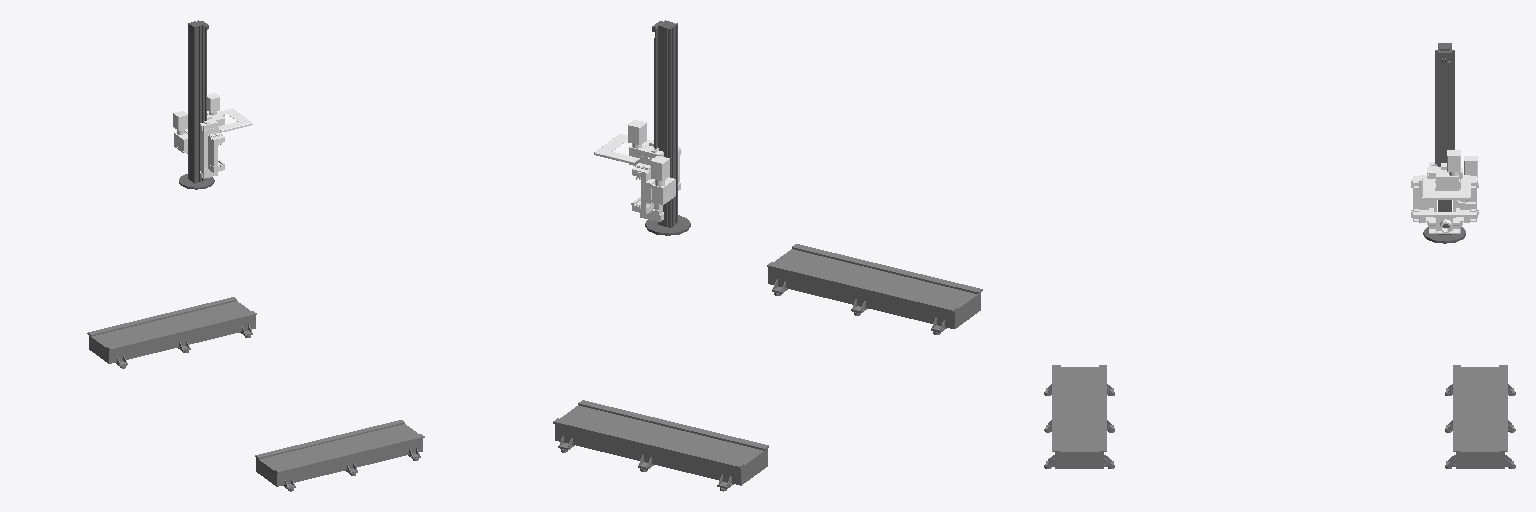
robot.urdf — gantry:
<?xml version="1.0"?>
<!-- =================================================================================== -->
<!-- |    This document was autogenerated by xacro from [local-path]/catkin_ws/src/ntnu_robotlab/gantry_support/urdf/gantry_robot.xacro | -->
<!-- |    EDITING THIS FILE BY HAND IS NOT RECOMMENDED                                 | -->
<!-- =================================================================================== -->
<!--Generates a urdf from the macro in gantry_macro.xacro -->
<robot xmlns:xacro="http://www.ros.org/wiki/xacro" name="gantry">
  <!-- created with Phobos 0.7 -->
  <link name="link_arm">
    <inertial>
      <origin rpy="0 0 0" xyz="0 0 0"/>
      <mass value="100.0"/>
      <inertia ixx="77.157539" ixy="-0.43952" ixz="-0.013708" iyy="77.235046" iyz="-8e-06" izz="1.060431"/>
    </inertial>
    <visual name="visual_arm">
      <origin rpy="1.57079632679 0 0" xyz="0 0 0"/>
      <geometry>
        <mesh filename="package://gantry_support/meshes/VIFS96.stl" scale="1.0 1.0 1.0"/>
      </geometry>
      <material name="VMtl98"/>
    </visual>
    <collision name="collision_arm">
      <origin rpy="0 0 0" xyz="0 0 1.34717"/>
      <geometry>
        <mesh filename="package://gantry_support/meshes/Cylinder.stl" scale="0.188288 0.188288 0.188288"/>
      </geometry>
    </collision>
  </link>
  <link name="link_base">
    <inertial>
      <origin rpy="0 0 0" xyz="0 0 0"/>
      <mass value="100.0"/>
      <inertia ixx="71.623734" ixy="3.1e-05" ixz="0" iyy="788.87262" iyz="1.2e-05" izz="851.100647"/>
    </inertial>
    <visual name="visual_base">
      <origin rpy="1.57079632679 -1.57079632679 0" xyz="0 0 0"/>
      <geometry>
        <mesh filename="package://gantry_support/meshes/VIFS01.001.stl" scale="1.0 1.0 1.0"/>
      </geometry>
      <material name="03___Default.001"/>
    </visual>
    <collision name="collision_base">
      <origin rpy="1.57079632679 -1.57079632679 0" xyz="0 0 0"/>
      <geometry>
        <mesh filename="package://gantry_support/meshes/VIFS01.000.stl" scale="1.0 1.0 1.0"/>
      </geometry>
    </collision>
  </link>
  <link name="link_leg">
    <inertial>
      <origin rpy="0 0 0" xyz="0 0.114805 -0.069116"/>
      <mass value="1000.0"/>
      <inertia ixx="1880.551147" ixy="0.000232" ixz="0" iyy="7958.77002" iyz="-13.379694" izz="6216.929688"/>
    </inertial>
    <visual name="visual_leg">
      <origin rpy="1.57079632679 -1.57079632679 0" xyz="0 0.114805 -0.069116"/>
      <geometry>
        <mesh filename="package://gantry_support/meshes/VIFS42.001.stl" scale="1.0 1.0 1.0"/>
      </geometry>
      <material name="01___Default.001"/>
    </visual>
    <collision name="collision_leg">
      <origin rpy="1.57079632679 -1.57079632679 0" xyz="0.000315 0.114805 -0.069116"/>
      <geometry>
        <mesh filename="package://gantry_support/meshes/VIFS42.000.stl" scale="1.0 1.0 1.0"/>
      </geometry>
    </collision>
  </link>
  <link name="link_trolley">
    <inertial>
      <origin rpy="0 0 0" xyz="0 0 0"/>
      <mass value="100.0"/>
      <inertia ixx="15.599652" ixy="1.71094" ixz="1.886528" iyy="9.19625" iyz="0.938975" izz="14.022485"/>
    </inertial>
    <visual name="visual_trolley">
      <origin rpy="-3.14159265359 0 0" xyz="0 0 0"/>
      <geometry>
        <mesh filename="package://gantry_support/meshes/VIFS43.001.stl" scale="1.0 1.0 1.0"/>
      </geometry>
      <material name="02___Default.001"/>
    </visual>
    <collision name="collision_trolley">
      <origin rpy="1.57079632679 0 0" xyz="-0.020567 0.254046 -0.042038"/>
      <geometry>
        <mesh filename="package://gantry_support/meshes/Cube.005.stl" scale="0.129538 0.485533 0.188935"/>
      </geometry>
    </collision>
  </link>
  <link name="robot_connection">
    </link>
  <link name="root">
    </link>
  <joint name="joint_e3" type="prismatic">
    <origin rpy="1.57079632679 0 0" xyz="-0.164527 -0.651668 -0.053205"/>
    <parent link="link_trolley"/>
    <child link="link_arm"/>
    <axis xyz="0 0 1.0"/>
    <limit effort="1.0" lower="-1.6" upper="0" velocity="0.55"/>
  </joint>
  <joint name="link_base" type="fixed">
    <origin rpy="0 1.57079632679 0" xyz="0 0 0"/>
    <parent link="root"/>
    <child link="link_base"/>
  </joint>
  <joint name="joint_e1" type="prismatic">
    <origin rpy="0 0 0" xyz="-2.570369 -0.057403 0.844145"/>
    <parent link="link_base"/>
    <child link="link_leg"/>
    <axis xyz="0 0 -1.0"/>
    <limit effort="1.0" lower="0" upper="1.54" velocity="0.5"/>
  </joint>
  <joint name="joint_e2" type="prismatic">
    <origin rpy="-1.57079632679 -1.57079632679 0" xyz="-1.277963 2.407403 -0.476427"/>
    <parent link="link_leg"/>
    <child link="link_trolley"/>
    <axis xyz="0 0 -1.0"/>
    <limit effort="1.0" lower="0" upper="4.7" velocity="0.83"/>
  </joint>
  <joint name="robot_connection" type="fixed">
    <origin rpy="-3.14159265359 0 0" xyz="-0.026405 0.000343 -1.392678"/>
    <parent link="link_arm"/>
    <child link="robot_connection"/>
  </joint>
  <material name="01___Default.001">
    <color rgba="0.1922 0.4588 1.0 1.0"/>
  </material>
  <material name="02___Default.001">
    <color rgba="1.0 1.0 1.0 1.0"/>
  </material>
  <material name="03___Default.001">
    <color rgba="0.5882 0.5882 0.5882 1.0"/>
  </material>
  <material name="VMtl98">
    <color rgba="0.5 0.5 0.5 1.0"/>
  </material>
  <!-- LINKS -->
  <!-- base link -->
  <link name="base_link">
    <inertial>
      <origin rpy="0 0 0" xyz="0 0 0"/>
      <mass value="2"/>
      <inertia ixx="0.01" ixy="0" ixz="0" iyy="0.01" iyz="0" izz="0.01"/>
    </inertial>
    <visual>
      <origin rpy="0 0 0" xyz="0 0 0"/>
      <geometry>
        <mesh filename="package://kuka_kr16_support/meshes/kr16_2/visual/base_link.dae"/>
      </geometry>
    </visual>
    <collision>
      <origin rpy="0 0 0" xyz="0 0 0"/>
      <geometry>
        <mesh filename="package://kuka_kr16_support/meshes/kr16_2/collision/base_link.stl"/>
      </geometry>
    </collision>
  </link>
  <!-- link 1 (A1) -->
  <link name="link_1">
    <inertial>
      <origin rpy="0 0 0" xyz="0 0 0"/>
      <mass value="2"/>
      <inertia ixx="0.01" ixy="0" ixz="0" iyy="0.01" iyz="0" izz="0.01"/>
    </inertial>
    <visual>
      <origin rpy="0 0 0" xyz="0 0 0"/>
      <geometry>
        <mesh filename="package://kuka_kr16_support/meshes/kr16_2/visual/link_1.dae"/>
      </geometry>
    </visual>
    <collision>
      <origin rpy="0 0 0" xyz="0 0 0"/>
      <geometry>
        <mesh filename="package://kuka_kr16_support/meshes/kr16_2/collision/link_1.stl"/>
      </geometry>
    </collision>
  </link>
  <!-- link 2 -->
  <link name="link_2">
    <inertial>
      <origin rpy="0 0 0" xyz="0 0 0"/>
      <mass value="2"/>
      <inertia ixx="0.01" ixy="0" ixz="0" iyy="0.01" iyz="0" izz="0.01"/>
    </inertial>
    <visual>
      <origin rpy="0 0 0" xyz="0 0 0"/>
      <geometry>
        <mesh filename="package://kuka_kr16_support/meshes/kr16_2/visual/link_2.dae"/>
      </geometry>
    </visual>
    <collision>
      <origin rpy="0 0 0" xyz="0 0 0"/>
      <geometry>
        <mesh filename="package://kuka_kr16_support/meshes/kr16_2/collision/link_2.stl"/>
      </geometry>
    </collision>
  </link>
  <!-- link 3 -->
  <link name="link_3">
    <inertial>
      <origin rpy="0 0 0" xyz="0 0 0"/>
      <mass value="2"/>
      <inertia ixx="0.01" ixy="0" ixz="0" iyy="0.01" iyz="0" izz="0.01"/>
    </inertial>
    <visual>
      <origin rpy="0 0 0" xyz="0 0 0"/>
      <geometry>
        <mesh filename="package://kuka_kr16_support/meshes/kr16_2/visual/link_3.dae"/>
      </geometry>
    </visual>
    <collision>
      <origin rpy="0 0 0" xyz="0 0 0"/>
      <geometry>
        <mesh filename="package://kuka_kr16_support/meshes/kr16_2/collision/link_3.stl"/>
      </geometry>
    </collision>
  </link>
  <!-- link 4 -->
  <link name="link_4">
    <inertial>
      <origin rpy="0 0 0" xyz="0 0 0"/>
      <mass value="2"/>
      <inertia ixx="0.01" ixy="0" ixz="0" iyy="0.01" iyz="0" izz="0.01"/>
    </inertial>
    <visual>
      <origin rpy="0 0 0" xyz="0 0 0"/>
      <geometry>
        <mesh filename="package://kuka_kr16_support/meshes/kr16_2/visual/link_4.dae"/>
      </geometry>
    </visual>
    <collision>
      <origin rpy="0 0 0" xyz="0 0 0"/>
      <geometry>
        <mesh filename="package://kuka_kr16_support/meshes/kr16_2/collision/link_4.stl"/>
      </geometry>
    </collision>
  </link>
  <!-- link 5 -->
  <link name="link_5">
    <inertial>
      <origin rpy="0 0 0" xyz="0 0 0"/>
      <mass value="2"/>
      <inertia ixx="0.01" ixy="0" ixz="0" iyy="0.01" iyz="0" izz="0.01"/>
    </inertial>
    <visual>
      <origin rpy="0 0 0" xyz="0 0 0"/>
      <geometry>
        <mesh filename="package://kuka_kr16_support/meshes/kr16_2/visual/link_5.dae"/>
      </geometry>
    </visual>
    <collision>
      <origin rpy="0 0 0" xyz="0 0 0"/>
      <geometry>
        <mesh filename="package://kuka_kr16_support/meshes/kr16_2/collision/link_5.stl"/>
      </geometry>
    </collision>
  </link>
  <!-- link 6 -->
  <link name="link_6">
    <inertial>
      <origin rpy="0 0 0" xyz="0 0 0"/>
      <mass value="2"/>
      <inertia ixx="0.01" ixy="0" ixz="0" iyy="0.01" iyz="0" izz="0.01"/>
    </inertial>
    <visual>
      <origin rpy="0 0 0" xyz="0 0 0"/>
      <geometry>
        <mesh filename="package://kuka_kr16_support/meshes/kr16_2/visual/link_6.dae"/>
      </geometry>
    </visual>
    <collision>
      <origin rpy="0 0 0" xyz="0 0 0"/>
      <geometry>
        <mesh filename="package://kuka_kr16_support/meshes/kr16_2/collision/link_6.stl"/>
      </geometry>
    </collision>
  </link>
  <!-- tool 0 -->
  <!-- This frame corresponds to the $FLANGE coordinate system in KUKA KRC controllers. -->
  <link name="tool0"/>
  <!-- END LINKS -->
  <!-- JOINTS -->
  <!-- joint 1 (A1) -->
  <joint name="joint_a1" type="revolute">
    <origin rpy="0 0 0" xyz="0 0 0.675"/>
    <parent link="base_link"/>
    <child link="link_1"/>
    <axis xyz="0 0 -1"/>
    <limit effort="0" lower="-3.22885911619" upper="3.22885911619" velocity="2.72271363311"/>
  </joint>
  <!-- joint 2 (A2) -->
  <joint name="joint_a2" type="revolute">
    <origin rpy="0 0 0" xyz="0.26 0 0"/>
    <parent link="link_1"/>
    <child link="link_2"/>
    <axis xyz="0 1 0"/>
    <limit effort="0" lower="-2.70526034059" upper="0.610865238198" velocity="2.72271363311"/>
  </joint>
  <!-- joint 3 (A3) -->
  <joint name="joint_a3" type="revolute">
    <origin rpy="0 0 0" xyz="0.68 0 0"/>
    <parent link="link_2"/>
    <child link="link_3"/>
    <axis xyz="0 1 0"/>
    <limit effort="0" lower="-2.26892802759" upper="2.68780704807" velocity="2.72271363311"/>
  </joint>
  <!-- joint 4 (A4) -->
  <joint name="joint_a4" type="revolute">
    <origin rpy="0 0 0" xyz="0.67 0 -0.035"/>
    <parent link="link_3"/>
    <child link="link_4"/>
    <axis xyz="-1 0 0"/>
    <limit effort="0" lower="-6.10865238198" upper="6.10865238198" velocity="5.75958653158"/>
  </joint>
  <!-- joint 5 (A5) -->
  <joint name="joint_a5" type="revolute">
    <origin rpy="0 0 0" xyz="0 0 0"/>
    <parent link="link_4"/>
    <child link="link_5"/>
    <axis xyz="0 1 0"/>
    <limit effort="0" lower="-2.26892802759" upper="2.26892802759" velocity="5.75958653158"/>
  </joint>
  <!-- joint 6 (A6) -->
  <joint name="joint_a6" type="revolute">
    <origin rpy="0 0 0" xyz="0 0 0"/>
    <parent link="link_5"/>
    <child link="link_6"/>
    <axis xyz="-1 0 0"/>
    <limit effort="0" lower="-6.10865238198" upper="6.10865238198" velocity="10.7337748998"/>
  </joint>
  <!-- tool frame - fixed frame -->
  <joint name="joint_a6-tool0" type="fixed">
    <parent link="link_6"/>
    <child link="tool0"/>
    <origin rpy="0 1.57079632679 0" xyz="0.158 0 0"/>
  </joint>
  <!-- END JOINTS -->
  <!-- ROS base_link to KUKA $ROBROOT coordinate system transform -->
  <link name="base"/>
  <joint name="base_link-base" type="fixed">
    <origin rpy="0 0 0" xyz="0 0 0"/>
    <parent link="base_link"/>
    <child link="base"/>
  </joint>
  <joint name="gantry_robot" type="fixed">
    <origin rpy="0 0 1.57079632679" xyz="0 0 0"/>
    <parent link="robot_connection"/>
    <child link="base_link"/>
  </joint>
</robot>

--- Render facts (derived) ---
3 views of the same robot in one strip: view 1: azimuth 30°, elevation 25°; view 2: azimuth 150°, elevation 25°; view 3: azimuth 270°, elevation 25° (orthographic).
Robot: gantry — 15 links, 14 joints (6 revolute, 3 prismatic, 5 fixed); root link root; default pose: all joints at 0.
Links seen in each view (by area): view 1: link_base, link_arm, link_trolley; view 2: link_base, link_arm, link_trolley; view 3: link_base, link_trolley, link_arm.
Boxes of the visible links, bbox=[...] form: link_base: bbox=[87, 297, 424, 491]; link_arm: bbox=[179, 20, 214, 189]; link_trolley: bbox=[173, 93, 252, 178]; link_base: bbox=[553, 244, 982, 491]; link_arm: bbox=[645, 20, 690, 235]; link_trolley: bbox=[594, 120, 680, 221]; link_base: bbox=[1044, 365, 1515, 468]; link_trolley: bbox=[1411, 150, 1478, 233]; link_arm: bbox=[1423, 43, 1465, 243].
Size in the robot's own frame: 2.81 by 6.57 by 6.01 metres.
3 mesh visuals loaded from 11 distinct referenced files (3 binary STL); not drawn: 8 (reference not matched to a file when rendering).